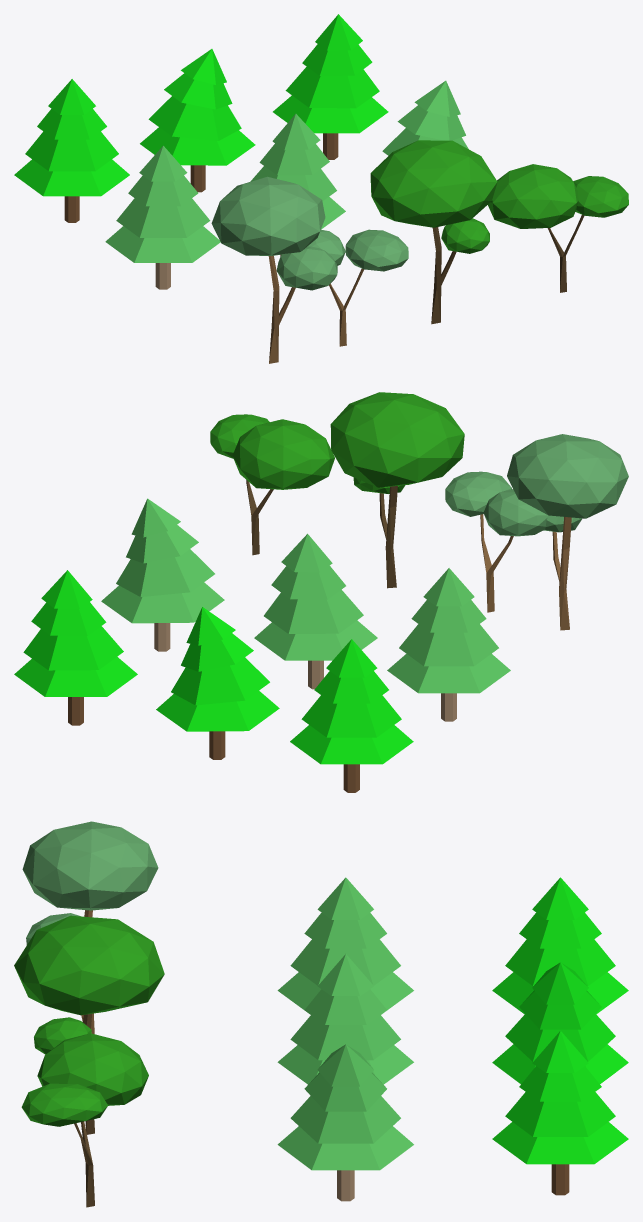
Rendered from TREES.fbx.
The picture shows the model from 3 angles, top to bottom: view 1: azimuth 30°, elevation 25°; view 2: azimuth 150°, elevation 25°; view 3: azimuth 270°, elevation 25°; orthographic projection. The views are drawn at different scales.
Visible parts, largest first — view 1: BlobTree.002, BlobTree.000, Tree.Pine.4, Tree.Pine.1, Tree.Pine.6, Tree.Pine.5, BlobTree.003, Tree.Pine.2, BlobTree.001, Tree.Pine.3; view 2: BlobTree.002, BlobTree.000, Tree.Pine.6, Tree.Pine.4, Tree.Pine.1, Tree.Pine.5, Tree.Pine.3, Tree.Pine.2, BlobTree.003, BlobTree.001; view 3: BlobTree.002, Tree.Pine.3, Tree.Pine.6, BlobTree.000, BlobTree.003, Tree.Pine.2, Tree.Pine.4, Tree.Pine.1, Tree.Pine.5.
Boxes of the visible parts, x1,y1,x2,y2 form: BlobTree.002: (370, 140, 497, 324); BlobTree.000: (211, 176, 337, 363); Tree.Pine.4: (14, 79, 129, 222); Tree.Pine.1: (105, 145, 220, 289); Tree.Pine.6: (273, 14, 388, 159); Tree.Pine.5: (140, 49, 255, 192); BlobTree.003: (488, 164, 628, 292); Tree.Pine.2: (250, 113, 345, 256); BlobTree.001: (281, 229, 408, 346); Tree.Pine.3: (382, 80, 468, 155); BlobTree.002: (330, 392, 464, 588); BlobTree.000: (507, 434, 628, 630); Tree.Pine.6: (14, 570, 137, 725); Tree.Pine.4: (290, 639, 413, 792); Tree.Pine.1: (387, 568, 510, 721); Tree.Pine.5: (156, 607, 279, 759); Tree.Pine.3: (101, 498, 224, 651); Tree.Pine.2: (254, 533, 377, 689); BlobTree.003: (210, 414, 334, 555); BlobTree.001: (445, 471, 547, 612); BlobTree.002: (14, 915, 164, 1134); Tree.Pine.3: (277, 1044, 413, 1201); Tree.Pine.6: (492, 1031, 628, 1195); BlobTree.000: (22, 821, 158, 1033); BlobTree.003: (21, 1033, 148, 1207); Tree.Pine.2: (277, 954, 413, 1084); Tree.Pine.4: (492, 877, 628, 1014); Tree.Pine.1: (277, 877, 413, 1014); Tree.Pine.5: (492, 962, 628, 1083).
Size of the model in its own units: 9.31 by 4.15 by 10.82.
